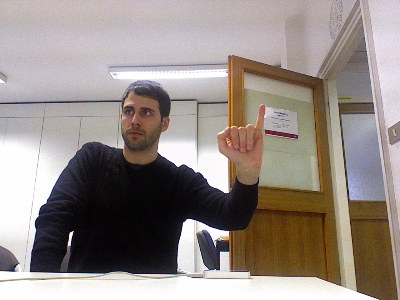小指: (214, 101, 268, 165)
